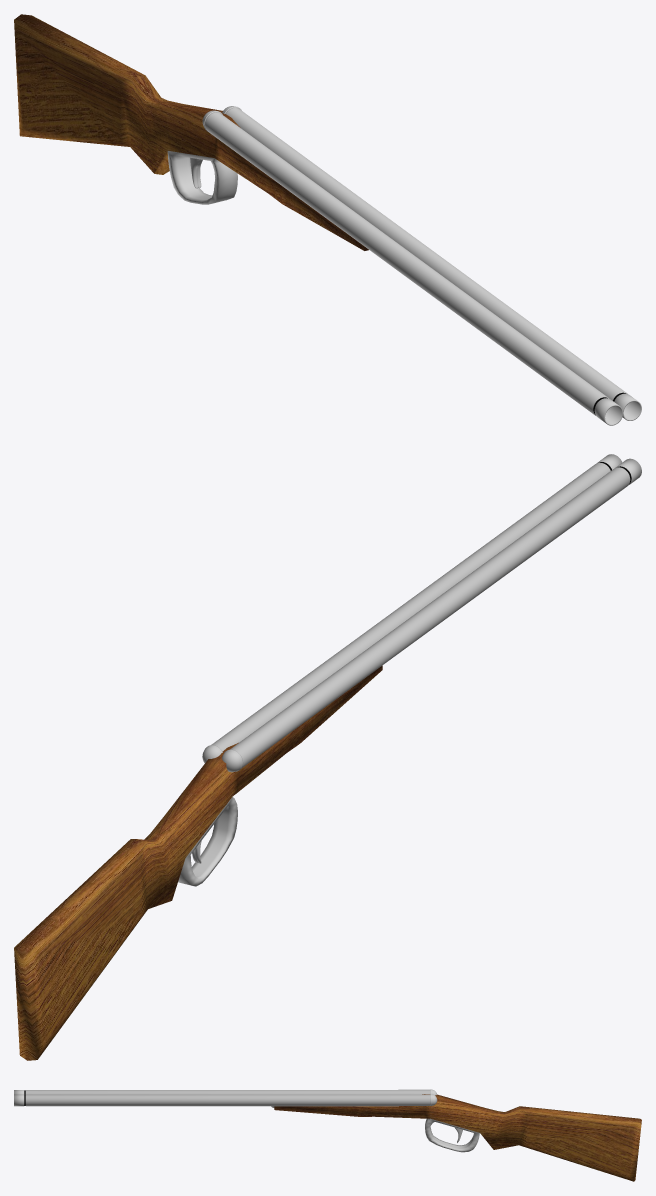
The model's file is DannyShotgun.fbx.
The picture shows the model from 3 angles, top to bottom: view 1: azimuth 30°, elevation 25°; view 2: azimuth 150°, elevation 25°; view 3: azimuth 270°, elevation 25°; orthographic projection. The views are drawn at different scales.
Parts seen in each view (by area): view 1: Holder, Barrells; view 2: Holder, Barrells; view 3: Holder, Barrells.
Part boxes in pixels (x1,y1,x2,y2): Holder: (14, 14, 368, 250); Barrells: (205, 107, 641, 425); Holder: (14, 665, 382, 1060); Barrells: (211, 454, 641, 768); Holder: (271, 1094, 641, 1181); Barrells: (14, 1089, 430, 1106).
Bounding box in the file's own units: 36.02 × 150 × 964.
